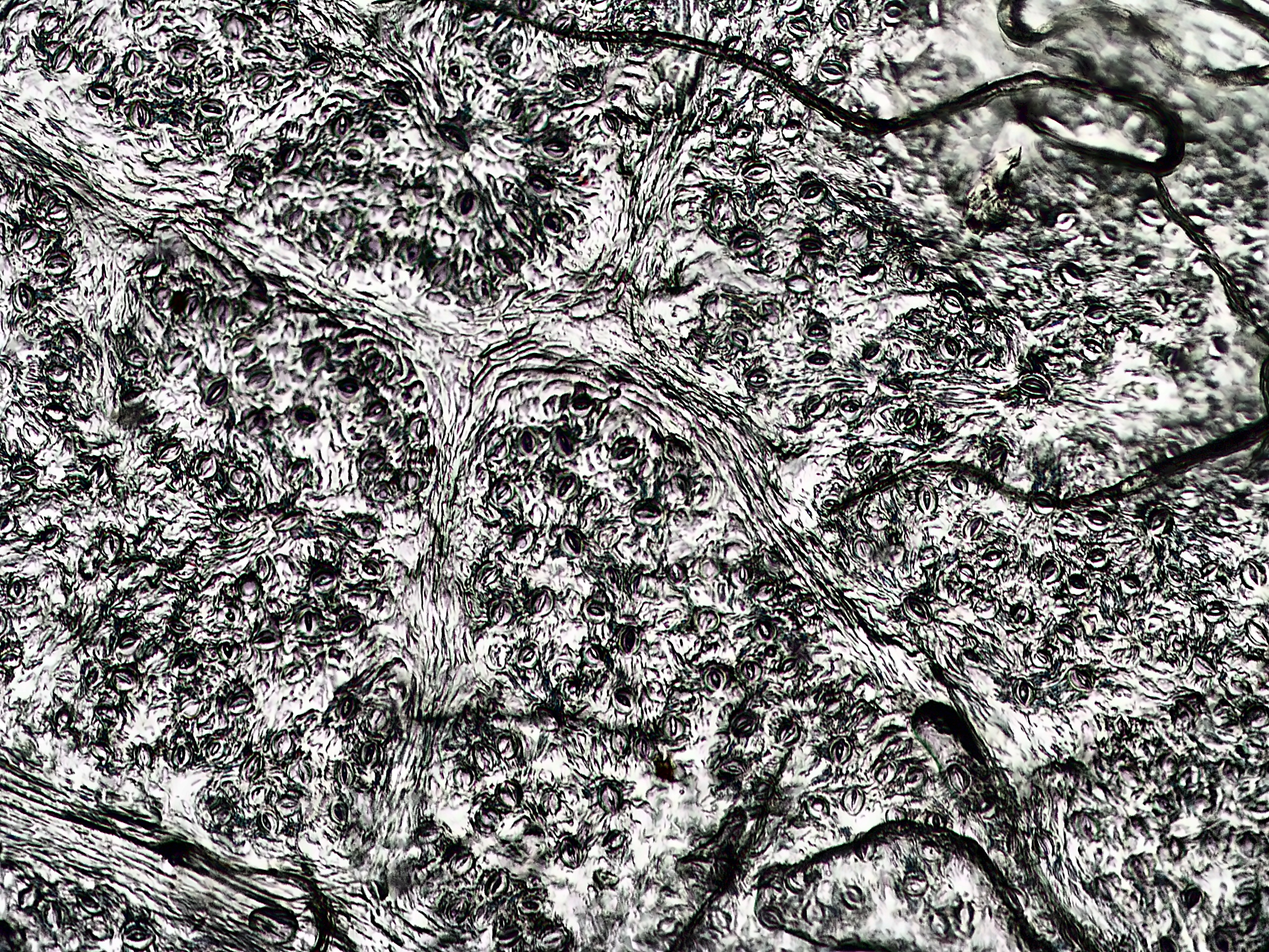stomata: (249, 906, 300, 948), (435, 120, 470, 153), (120, 923, 158, 950), (539, 922, 571, 952), (915, 481, 941, 517), (1017, 371, 1051, 398), (630, 501, 665, 527), (901, 595, 931, 625), (899, 868, 929, 898), (598, 781, 624, 814), (709, 191, 735, 223), (220, 509, 253, 533), (819, 58, 849, 84), (13, 282, 38, 313), (758, 905, 789, 930), (842, 786, 867, 817), (75, 891, 106, 916), (1241, 559, 1266, 590), (559, 837, 583, 869), (1137, 204, 1170, 227), (884, 806, 911, 834), (98, 530, 124, 559), (1170, 700, 1196, 729), (828, 736, 851, 768), (1014, 678, 1037, 710), (612, 440, 639, 467), (831, 7, 857, 35), (473, 740, 495, 773), (203, 378, 228, 407), (446, 897, 471, 926), (233, 163, 263, 187), (1084, 508, 1114, 532), (270, 511, 304, 532), (553, 427, 576, 458), (351, 514, 377, 541), (940, 287, 965, 315), (454, 189, 478, 218), (496, 732, 520, 761), (250, 631, 283, 652), (782, 273, 812, 296), (1246, 618, 1269, 648), (309, 566, 335, 592), (360, 447, 386, 473), (17, 885, 42, 912), (1076, 814, 1101, 841), (169, 42, 197, 66), (531, 589, 555, 617), (1029, 490, 1057, 514), (1034, 830, 1055, 862), (1068, 668, 1096, 692), (1125, 852, 1149, 880), (485, 870, 508, 899), (51, 44, 73, 74), (527, 174, 557, 196), (878, 377, 911, 397), (954, 897, 976, 927), (566, 396, 597, 417), (619, 625, 640, 656), (854, 831, 875, 862), (1082, 303, 1113, 324), (776, 720, 801, 746), (804, 794, 830, 819), (848, 449, 873, 475), (112, 667, 139, 691), (740, 657, 764, 684), (840, 886, 867, 910), (1148, 509, 1172, 536), (1193, 652, 1217, 679), (301, 344, 325, 371), (87, 83, 115, 106), (45, 253, 73, 276), (115, 633, 143, 656), (358, 558, 386, 581), (497, 779, 520, 807), (858, 262, 886, 285), (195, 452, 217, 481), (949, 763, 971, 792), (44, 902, 66, 931), (241, 752, 262, 782), (490, 599, 514, 625), (360, 348, 386, 372), (128, 103, 151, 130), (1037, 556, 1060, 583), (590, 28, 612, 56), (361, 740, 382, 769), (880, 4, 909, 25), (733, 232, 762, 253), (169, 352, 193, 377), (288, 761, 312, 786), (335, 758, 355, 788), (525, 105, 549, 130), (47, 360, 71, 385), (384, 88, 410, 111), (760, 200, 786, 223), (1054, 207, 1077, 233), (847, 226, 870, 252), (1203, 599, 1229, 622), (336, 695, 358, 722), (767, 48, 794, 70), (512, 526, 534, 553), (963, 513, 985, 540), (271, 728, 290, 759), (611, 726, 630, 757), (200, 99, 228, 120), (563, 528, 584, 556), (415, 823, 444, 843), (550, 13, 575, 36), (1165, 563, 1188, 588), (1181, 885, 1204, 910), (783, 871, 808, 894), (536, 705, 558, 731), (974, 596, 1000, 618), (1110, 610, 1132, 636), (875, 761, 896, 788), (744, 163, 772, 183), (800, 184, 828, 204), (598, 112, 621, 136), (704, 667, 727, 691), (938, 336, 962, 359), (92, 461, 111, 490), (719, 758, 748, 777), (18, 225, 40, 250), (293, 404, 318, 426), (112, 598, 137, 620), (451, 852, 473, 877), (853, 536, 875, 561), (1013, 600, 1035, 625), (986, 443, 1008, 468), (542, 138, 568, 159), (495, 925, 521, 946), (1086, 548, 1112, 569), (929, 911, 950, 937), (557, 475, 577, 502), (697, 608, 717, 635), (863, 510, 890, 530), (126, 51, 145, 79), (518, 645, 541, 668), (733, 712, 756, 735), (0, 646, 23, 669), (121, 388, 145, 410), (37, 527, 61, 549), (7, 577, 29, 601), (339, 615, 363, 637), (613, 689, 635, 713), (1066, 572, 1090, 594), (157, 443, 182, 464), (982, 548, 1007, 569), (494, 251, 515, 276), (172, 561, 198, 581), (665, 715, 685, 741), (246, 372, 273, 391), (84, 663, 103, 690), (253, 554, 272, 581), (232, 337, 255, 359), (541, 212, 563, 235), (755, 620, 777, 643), (1062, 263, 1084, 286), (902, 261, 924, 284), (1055, 623, 1078, 645), (219, 639, 240, 663), (330, 798, 348, 826), (519, 429, 537, 457), (604, 829, 628, 850), (204, 63, 229, 83), (85, 49, 105, 74), (781, 121, 806, 141), (274, 796, 300, 815), (411, 415, 430, 441), (135, 744, 153, 771), (300, 609, 318, 636), (733, 124, 755, 146), (1120, 573, 1142, 595), (337, 377, 360, 398), (1081, 334, 1104, 355), (461, 7, 484, 28), (787, 17, 811, 37), (753, 91, 777, 111), (583, 601, 607, 621), (10, 465, 38, 482), (258, 809, 277, 834), (227, 695, 253, 713), (798, 237, 824, 255), (806, 352, 832, 370), (367, 399, 388, 421), (706, 99, 727, 121), (779, 655, 800, 677), (904, 311, 925, 333), (920, 544, 941, 566), (142, 259, 164, 280), (559, 72, 582, 92), (519, 895, 542, 915), (839, 398, 862, 418), (901, 406, 921, 429), (306, 60, 333, 77), (171, 744, 190, 768), (1095, 877, 1114, 901), (251, 72, 273, 92), (126, 347, 148, 367), (400, 470, 420, 492), (478, 565, 498, 587), (282, 146, 301, 169), (91, 742, 114, 761), (967, 349, 990, 368), (1030, 650, 1053, 669), (46, 201, 69, 220), (342, 146, 366, 164), (45, 404, 69, 422), (1115, 712, 1133, 736), (924, 421, 946, 440), (947, 473, 969, 492), (62, 329, 81, 351), (124, 0, 147, 18), (169, 617, 192, 635), (903, 770, 926, 788), (24, 180, 41, 204), (733, 564, 750, 588), (273, 8, 293, 28), (635, 735, 651, 760), (495, 482, 514, 503), (861, 340, 880, 361), (797, 599, 818, 618), (163, 74, 185, 92), (805, 322, 827, 340), (748, 369, 768, 388), (369, 125, 390, 143), (733, 0, 754, 18), (176, 654, 198, 671), (926, 811, 945, 830), (605, 564, 620, 588), (756, 581, 774, 601), (958, 564, 976, 584), (585, 644, 602, 665), (832, 550, 849, 571), (670, 563, 686, 585), (208, 740, 223, 763), (724, 37, 743, 55), (731, 329, 749, 348), (334, 114, 349, 136), (492, 52, 514, 67), (0, 511, 13, 535), (0, 359, 12, 385), (782, 0, 804, 14), (516, 0, 536, 13), (251, 786, 266, 803), (809, 401, 826, 416), (589, 0, 607, 9)
